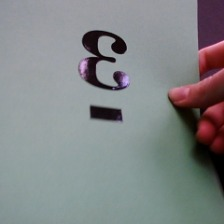green3: (75, 23, 136, 128)
